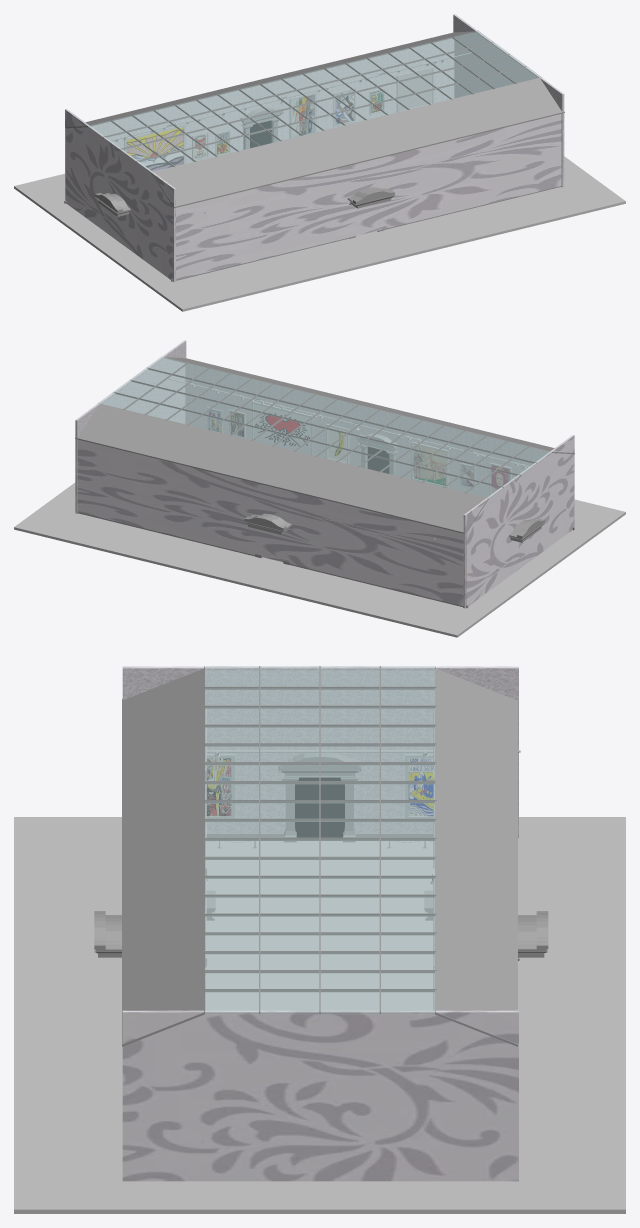
The model's file is RunwayGallery v1.fbx.
3 views of the same model, one above another, from view 1: azimuth 30°, elevation 25°; view 2: azimuth 150°, elevation 25°; view 3: azimuth 270°, elevation 25° (orthographic). The views are drawn at different scales.
Parts seen in each view (by area): view 1: pCube48, pCube100, pCube12, pCube101, pCube22, pCube19, pCube30, pCube28, pCube26, pCube75, pCube74, pCube76 (+4 smaller); view 2: pCube48, pCube101, pCube12, pCube100, pCube22, pCube19, pCube37, pCube42, pCube74, pCube76, pCube75, pCube36 (+5 smaller); view 3: pCube48, pCube12, pCube19, pCube22, pPlane3, pCube34, pCube35, pCube7, pCube9, pCube14, pCube56, pCube61 (+15 smaller).
Part boxes in pixels (box(x1,y1,x2,y2)): pCube48: box(65, 30, 564, 208); pCube100: box(172, 114, 561, 280); pCube12: box(14, 156, 625, 311); pCube101: box(65, 38, 454, 200); pCube22: box(65, 109, 175, 282); pCube19: box(453, 14, 564, 187); pCube30: box(124, 124, 185, 171); pCube28: box(396, 67, 433, 112); pCube26: box(289, 92, 316, 138); pCube75: box(136, 66, 526, 162); pCube74: box(119, 53, 509, 150); pCube76: box(103, 41, 492, 138); pCube48: box(75, 356, 574, 533); pCube101: box(77, 439, 466, 606); pCube12: box(14, 482, 625, 637); pCube100: box(185, 364, 574, 526); pCube22: box(463, 435, 574, 608); pCube19: box(75, 340, 186, 513); pCube37: box(252, 401, 313, 455); pCube42: box(411, 441, 448, 488); pCube74: box(130, 379, 520, 476); pCube76: box(113, 392, 503, 488); pCube75: box(146, 367, 536, 463); pCube36: box(325, 424, 349, 463); pCube48: box(122, 666, 517, 1046); pCube12: box(14, 817, 625, 1213); pCube19: box(122, 1010, 518, 1181); pCube22: box(122, 666, 518, 837); pPlane3: box(295, 777, 344, 837); pCube34: box(405, 754, 433, 818); pCube35: box(206, 754, 234, 818); pCube7: box(518, 911, 548, 951); pCube9: box(94, 911, 121, 951); pCube14: box(279, 752, 360, 769); pCube56: box(203, 837, 436, 840); pCube61: box(203, 743, 436, 746).
Size of the model in its own units: 89.55 by 21.23 by 58.99.
